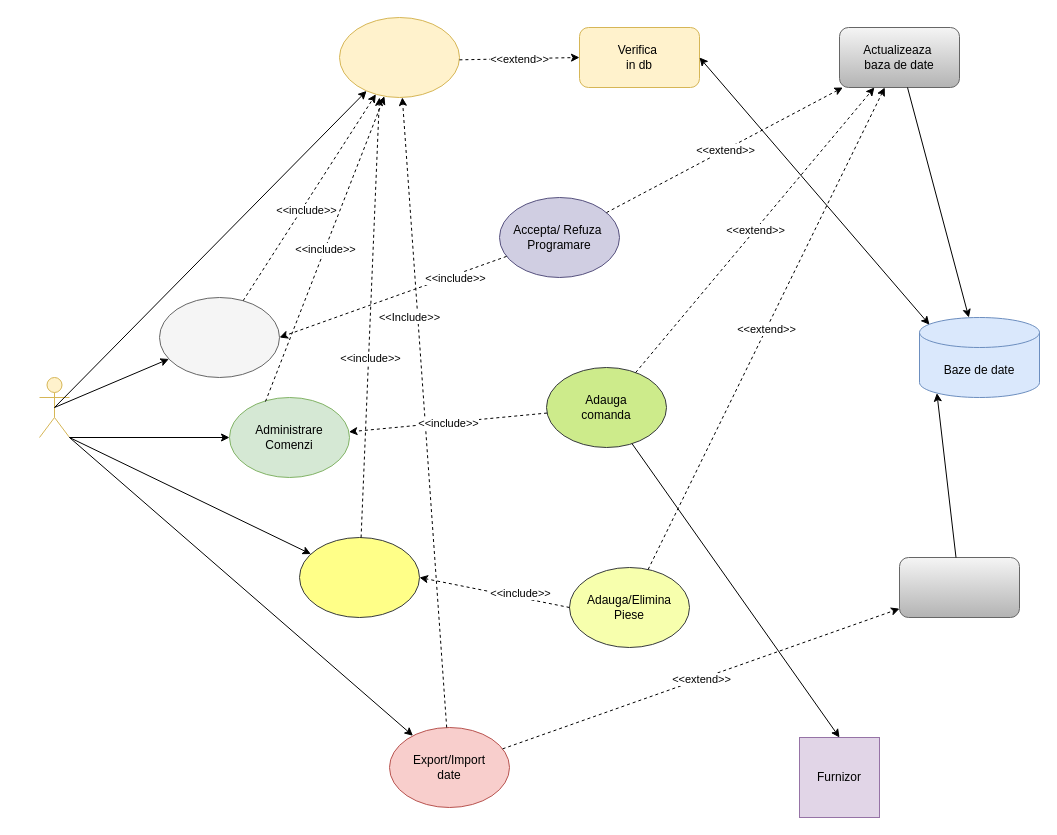
The diagram is 1057 pixels wide and 835 high, and some of its shapes have lost their labels. Each missing label, with the centre of its shape:
"Administrare Programari" belongs at point 219,337.
"Administrare Stoc" belongs at point 359,577.
"Administrator service de motociclete" belongs at point 54,407.
"Extrage date din db" belongs at point 959,587.
"Login" belongs at point 399,57.
